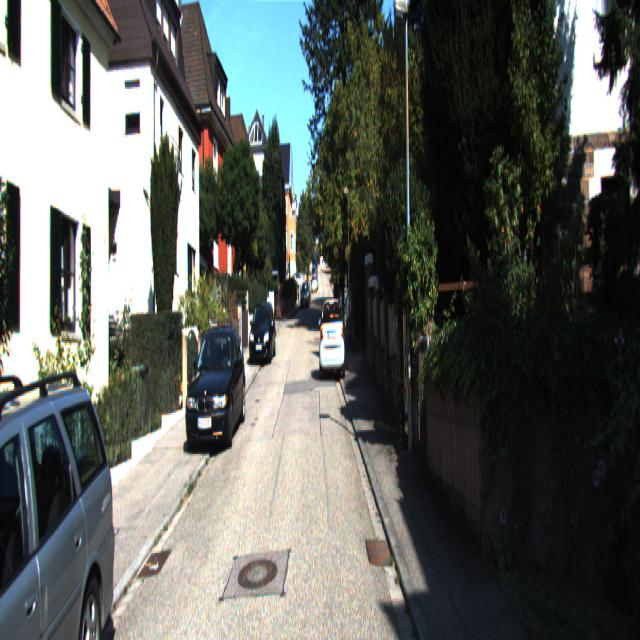Car: (0, 355, 125, 638), (184, 325, 247, 455), (319, 292, 345, 380), (249, 303, 277, 366)
